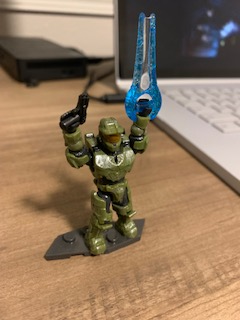chief: (60, 99, 149, 256)
pistol: (58, 93, 91, 136)
spartan: (58, 97, 150, 254)
up: (61, 99, 149, 183)
